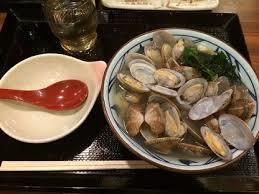asari: (96, 23, 259, 183)
